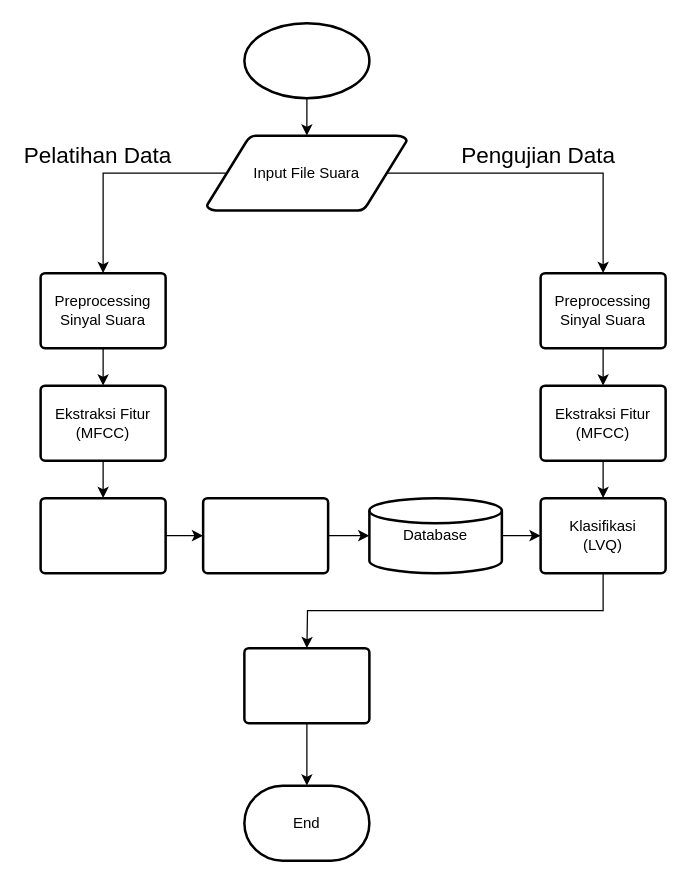
Image size: 688x883. Some labels were removed from this diagram. The centre of each missing label's shape, as x and y in pixels:
Identifikasi Pembicara: the point at 306,685
Pelatihan Data (LVQ): the point at 102,535
Perhitungan Bobot: the point at 265,535
Start: the point at 306,60
